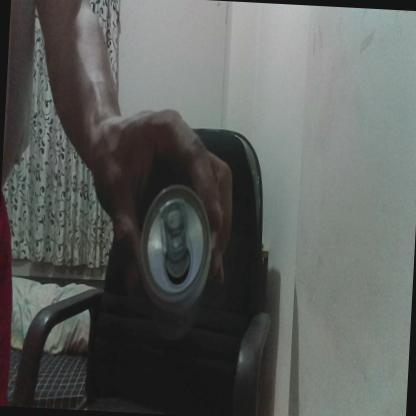alumunium_can: (135, 176, 213, 316)
